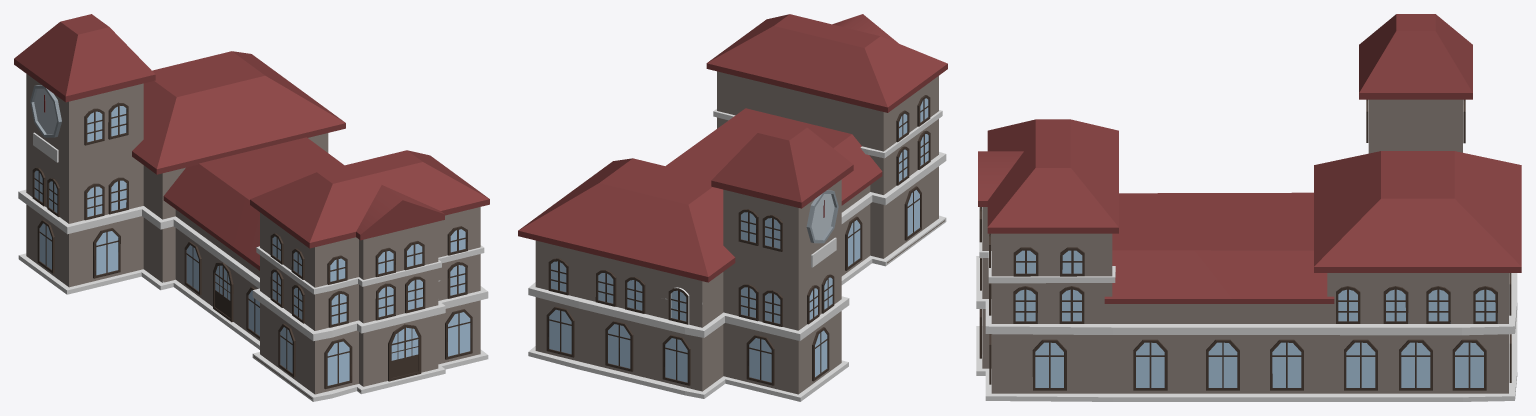
Rendered from TrainStation.FBX.
The picture shows the model from 3 angles, left to right: view 1: azimuth 30°, elevation 25°; view 2: azimuth 150°, elevation 25°; view 3: azimuth 270°, elevation 25°; orthographic projection. The views are drawn at different scales.
Visible parts, largest first — view 1: Box001, Box003, Box004, Box002, Box006, Box005, Line177, Line139, Cylinder002, Line138, Line140, Line124 (+20 smaller); view 2: Box001, Box003, Box004, Box006, Box002, Line141, Cylinder002, Line137, Line143, Line142, Line129, Line128 (+14 smaller); view 3: Box001, Box003, Box002, Box004, Box006, Line131, Line136, Line133, Line134, Line130, Line132, Line135 (+9 smaller).
Part boxes in pixels (bbox=[...]): Box001: bbox=[18, 74, 488, 401]; Box003: bbox=[132, 51, 345, 174]; Box004: bbox=[250, 150, 489, 248]; Box002: bbox=[163, 137, 344, 270]; Box006: bbox=[14, 14, 155, 102]; Box005: bbox=[356, 185, 444, 240]; Line177: bbox=[388, 324, 421, 381]; Line139: bbox=[324, 338, 352, 389]; Cylinder002: bbox=[30, 85, 61, 137]; Line138: bbox=[93, 228, 120, 278]; Line140: bbox=[445, 309, 472, 359]; Line124: bbox=[213, 262, 233, 322]; Box001: bbox=[528, 71, 946, 401]; Box003: bbox=[518, 158, 735, 282]; Box004: bbox=[706, 14, 947, 112]; Box006: bbox=[711, 119, 853, 208]; Box002: bbox=[665, 108, 882, 205]; Line141: bbox=[662, 335, 690, 385]; Cylinder002: bbox=[806, 190, 838, 243]; Line137: bbox=[746, 335, 774, 385]; Line143: bbox=[546, 306, 574, 357]; Line142: bbox=[605, 321, 633, 371]; Line129: bbox=[904, 186, 921, 240]; Line128: bbox=[845, 216, 862, 270]; Box001: bbox=[976, 99, 1517, 401]; Box003: bbox=[1314, 151, 1521, 272]; Box002: bbox=[1104, 192, 1334, 303]; Box004: bbox=[987, 119, 1118, 233]; Box006: bbox=[1359, 14, 1472, 99]; Line131: bbox=[1133, 339, 1167, 390]; Line136: bbox=[1452, 339, 1486, 390]; Line133: bbox=[1032, 339, 1066, 390]; Line134: bbox=[1344, 339, 1377, 390]; Line130: bbox=[1270, 339, 1303, 390]; Line132: bbox=[1206, 339, 1239, 390]; Line135: bbox=[1399, 339, 1432, 390].
Size of the model in its own units: 15.67 by 13.97 by 25.89.
